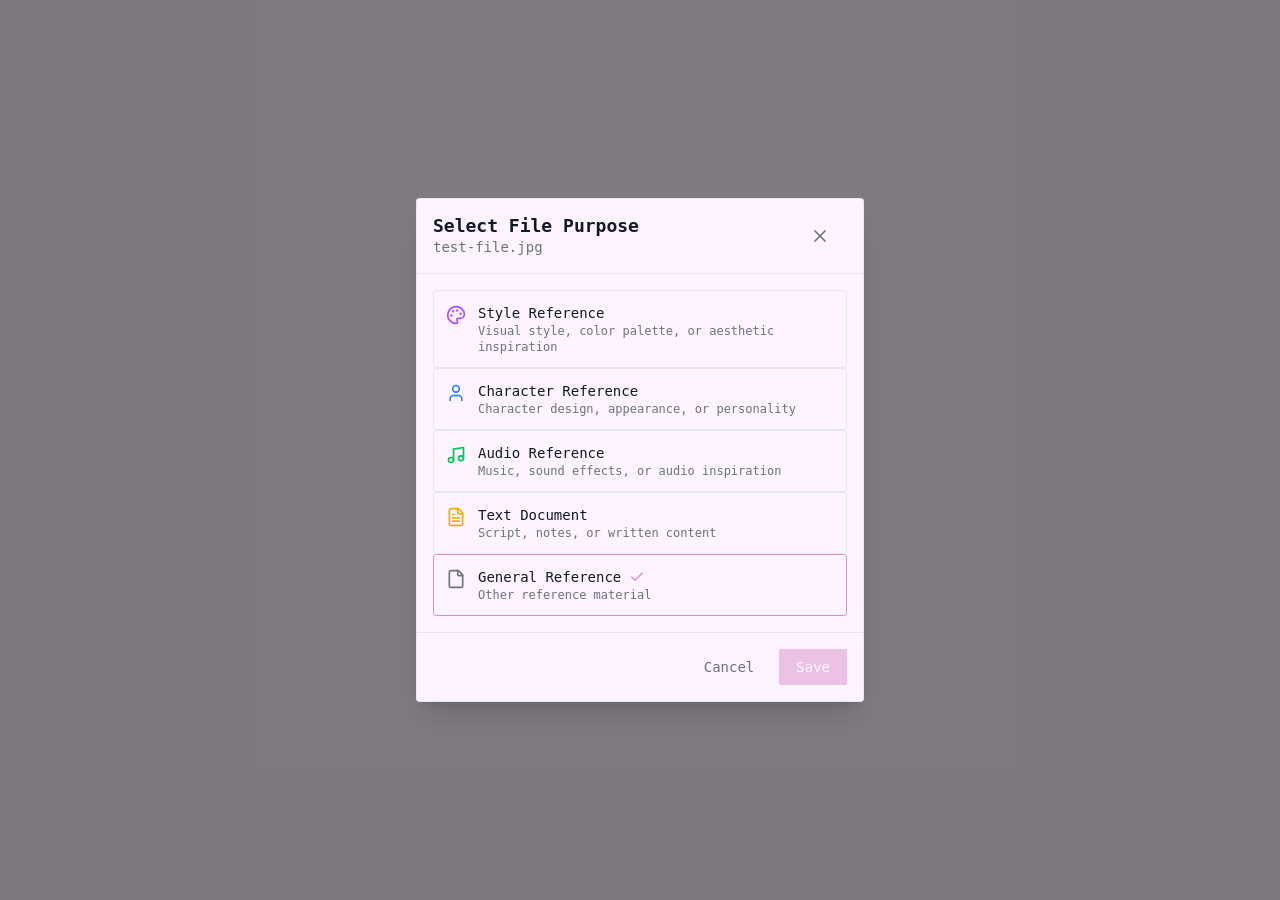
Test: FilePurposeSelector › handles API errors gracefully
What coordinates should you click on to do the following:
click the button "Style Reference"
I would click on:
 (640, 329)
Its box is [433, 290, 847, 368].
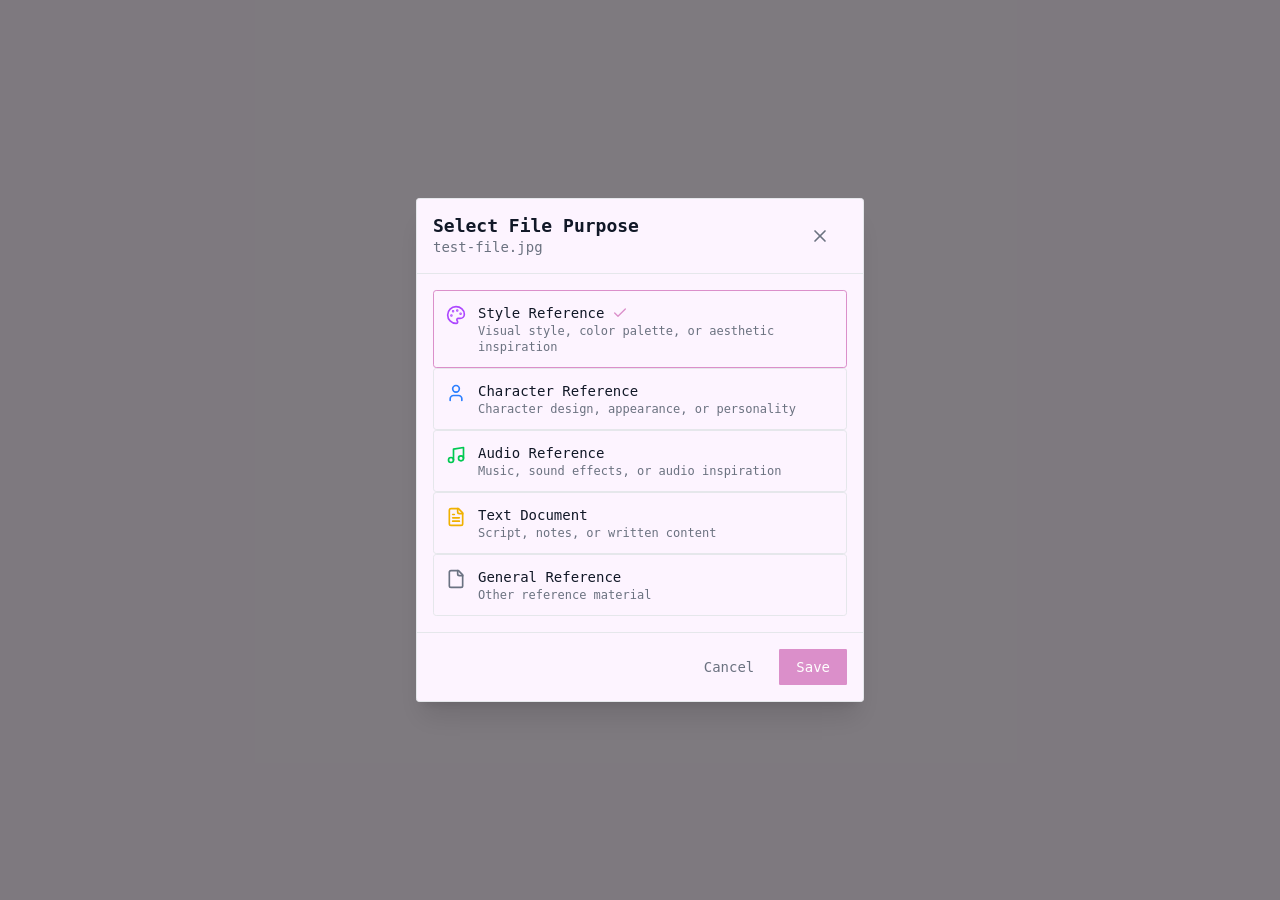
What coordinates should you click on to do the following:
click the button "Save"
I would click on:
 (813, 667)
Its box is [779, 649, 847, 685].
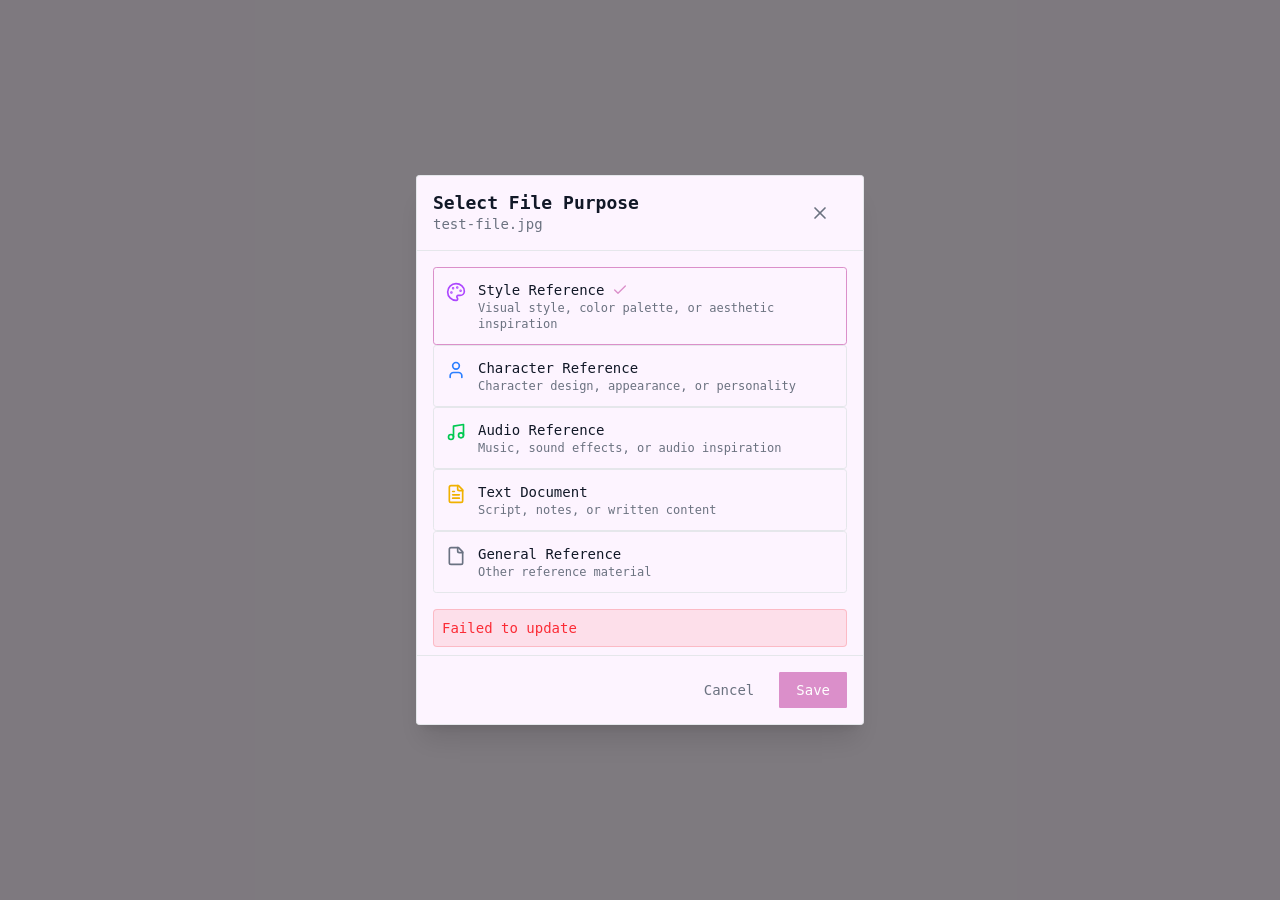
Now the text "Failed to update" is shown, box [442, 620, 577, 636]
